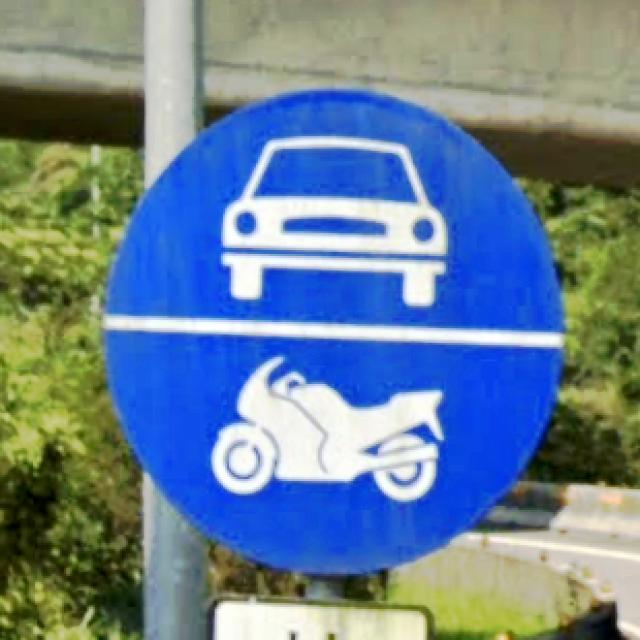carmotorcycle: (105, 90, 563, 573)
